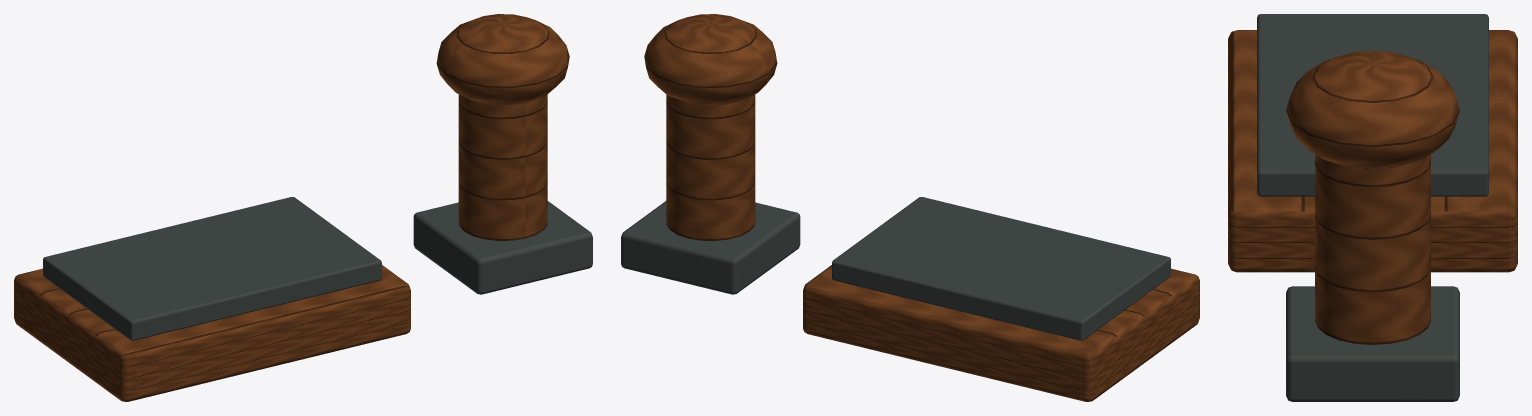
3 views of the same model, side by side, from view 1: azimuth 30°, elevation 25°; view 2: azimuth 150°, elevation 25°; view 3: azimuth 270°, elevation 25° (orthographic). The views are drawn at different scales.
Parts seen in each view (by area): view 1: stamp-and-inkpad; view 2: stamp-and-inkpad; view 3: stamp-and-inkpad.
Boxes of the visible parts, x1,y1,x2,y2 form: stamp-and-inkpad: (14, 14, 592, 401); stamp-and-inkpad: (621, 14, 1199, 401); stamp-and-inkpad: (1228, 14, 1517, 401).
Size of the model in its own units: 0.255 by 0.116 by 0.1.
2 materials, 1 textured.
